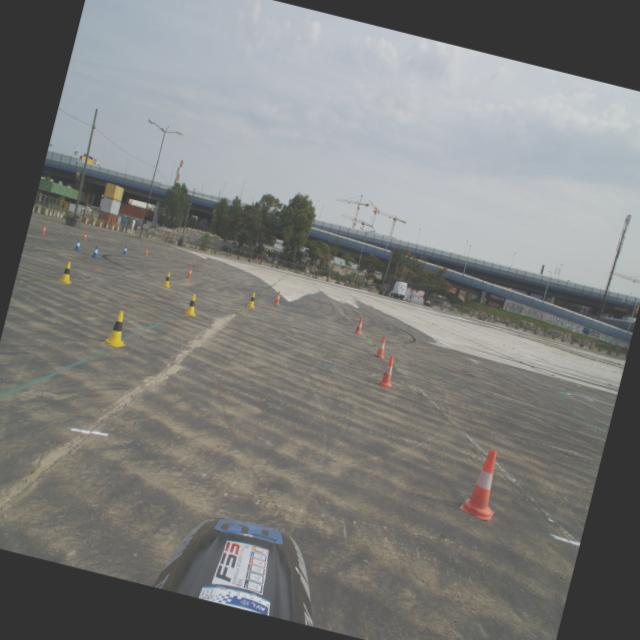blue_cone: (90, 245, 102, 258), (73, 238, 83, 251), (121, 244, 128, 254)
orange_cone: (458, 444, 508, 522), (376, 354, 398, 388), (57, 260, 76, 285), (374, 334, 389, 359), (352, 316, 366, 335), (272, 290, 282, 305), (184, 265, 194, 279), (40, 223, 48, 235), (143, 246, 150, 256), (82, 232, 88, 240)
yellow_cone: (101, 307, 133, 348), (182, 292, 200, 316), (161, 270, 173, 288), (246, 292, 258, 308)
